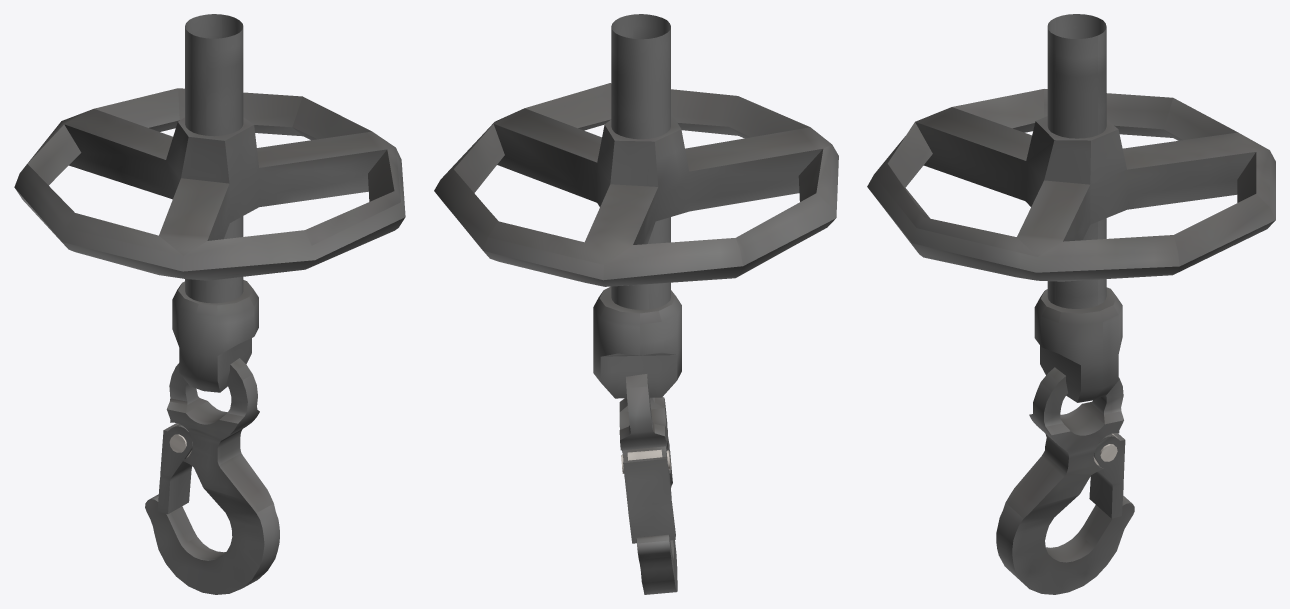
Rendered from AC313_gouzi_1.FBX.
The picture shows the model from 3 angles, left to right: view 1: azimuth 30°, elevation 25°; view 2: azimuth 150°, elevation 25°; view 3: azimuth 270°, elevation 25°; orthographic projection. The views are drawn at different scales.
Parts seen in each view (by area): view 1: AC313_shengzi_01; view 2: AC313_shengzi_01; view 3: AC313_shengzi_01.
Boxes of the visible parts, left/top/right/bottom form: AC313_shengzi_01: left=14, top=14, right=405, bottom=594; AC313_shengzi_01: left=434, top=14, right=838, bottom=594; AC313_shengzi_01: left=867, top=14, right=1275, bottom=594.
Bounding box in the file's own units: 0.2013 × 0.3147 × 0.2061.
Materials: 1 (1 with a texture image).
